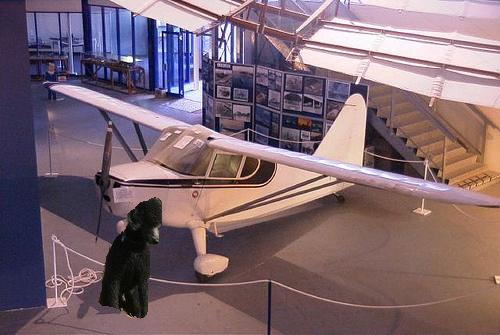tampered: (99, 198, 162, 319)
